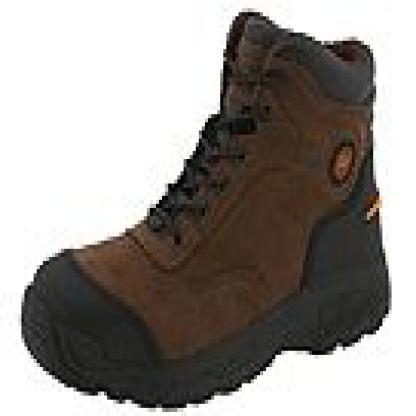bota: (20, 6, 415, 405)
